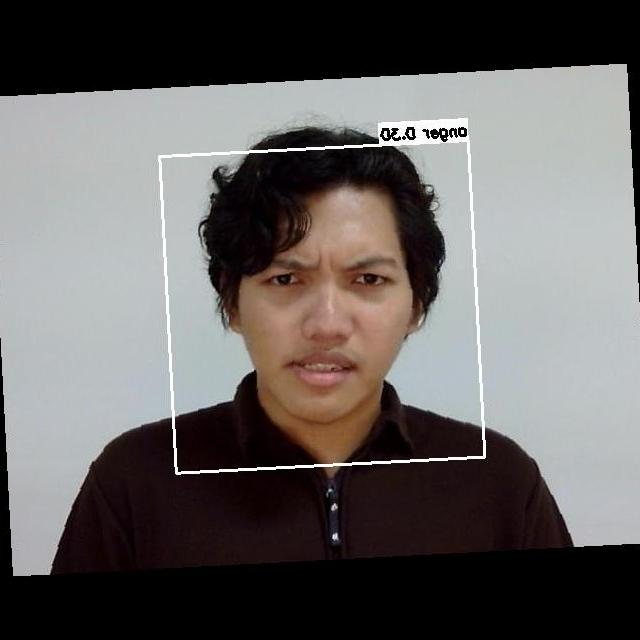Angry: (228, 221, 435, 406)
